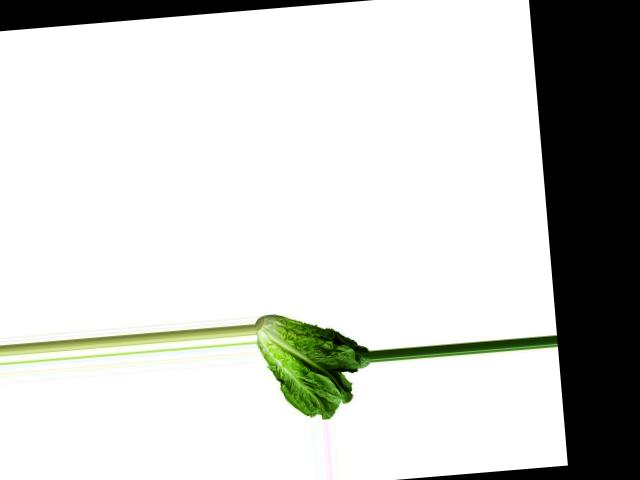lettuce: (255, 306, 372, 425)
